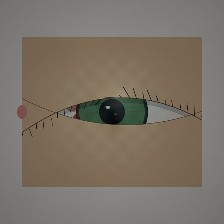hemorrhage_spot: (63, 100, 121, 147)
